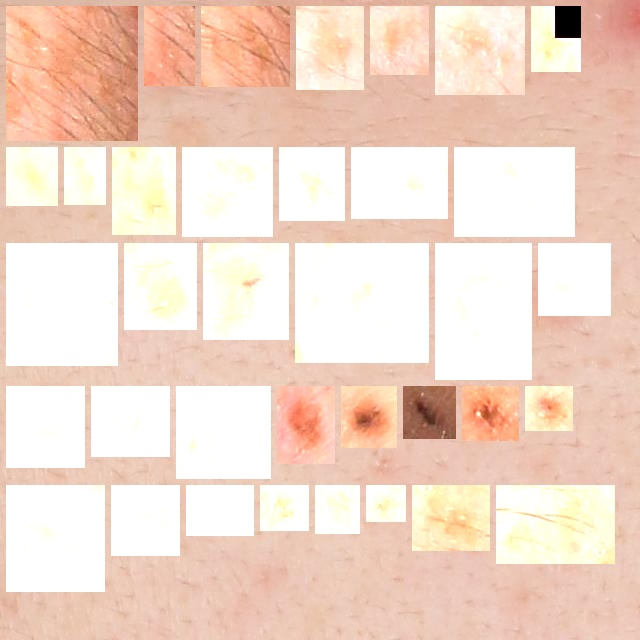melasma: (14, 14, 130, 133), (303, 251, 421, 355), (14, 251, 110, 358), (443, 251, 524, 372), (462, 155, 567, 229), (14, 493, 97, 584), (504, 493, 607, 556), (184, 394, 263, 471), (211, 251, 281, 332), (190, 155, 265, 229), (443, 14, 517, 87), (209, 14, 282, 79), (359, 155, 440, 211), (14, 394, 77, 460), (132, 251, 189, 322), (304, 14, 356, 82), (99, 394, 162, 449), (120, 155, 168, 227), (546, 251, 603, 308), (420, 493, 482, 543), (119, 493, 172, 548), (287, 155, 337, 213), (285, 394, 327, 456), (378, 14, 421, 67), (152, 14, 187, 78), (194, 493, 246, 528), (539, 14, 573, 64), (14, 155, 50, 198), (72, 155, 98, 197), (268, 493, 301, 523), (323, 493, 352, 526), (374, 493, 398, 514)
nevus: (349, 394, 389, 440), (470, 394, 511, 433), (411, 394, 448, 431), (533, 394, 565, 423)
